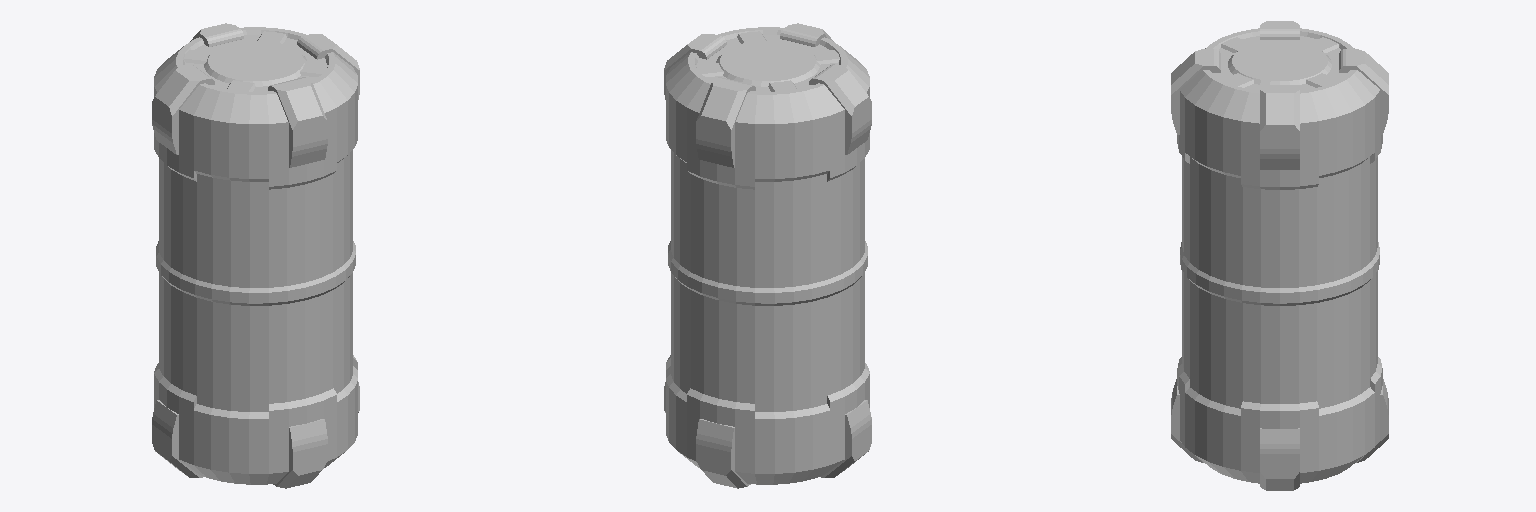
Rendered from Barel.obj.
The picture shows the model from 3 angles: view 1: azimuth 30°, elevation 25°; view 2: azimuth 150°, elevation 25°; view 3: azimuth 270°, elevation 25°; orthographic projection.
Visible parts, largest first — view 1: Sci-fi_Barel_Game_Цилиндр.003; view 2: Sci-fi_Barel_Game_Цилиндр.003; view 3: Sci-fi_Barel_Game_Цилиндр.003.
Part boxes in pixels (x1,y1,x2,y2): Sci-fi_Barel_Game_Цилиндр.003: (152,23,359,488); Sci-fi_Barel_Game_Цилиндр.003: (664,23,871,488); Sci-fi_Barel_Game_Цилиндр.003: (1171,21,1388,490).
Size of the model in its own units: 1.16 by 2.33 by 1.16.